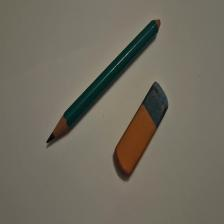eraser: (115, 82, 169, 177)
pencil: (47, 20, 162, 145)
